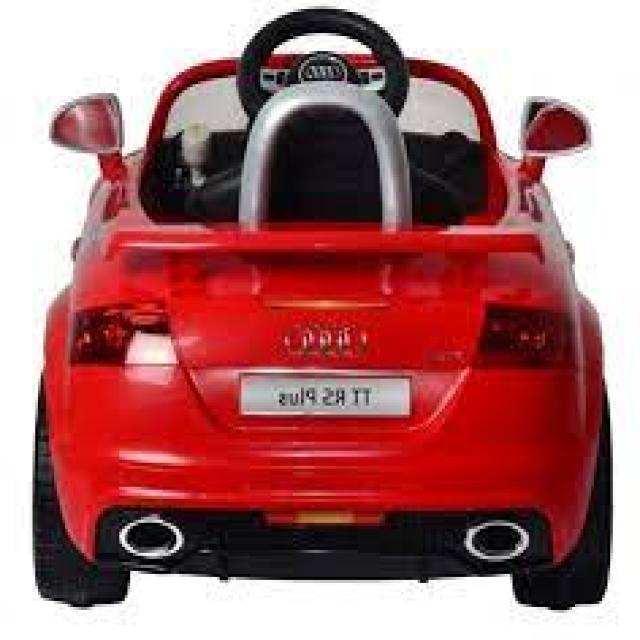Car: (32, 6, 616, 610)
